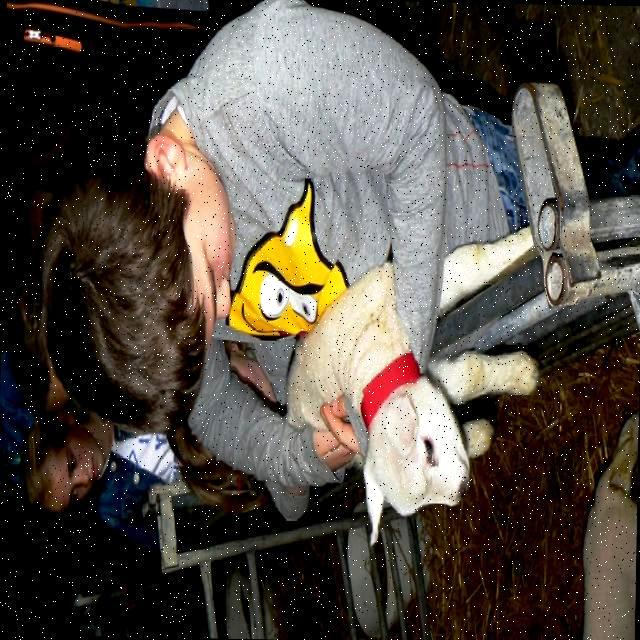sheep: (317, 236, 536, 505)
